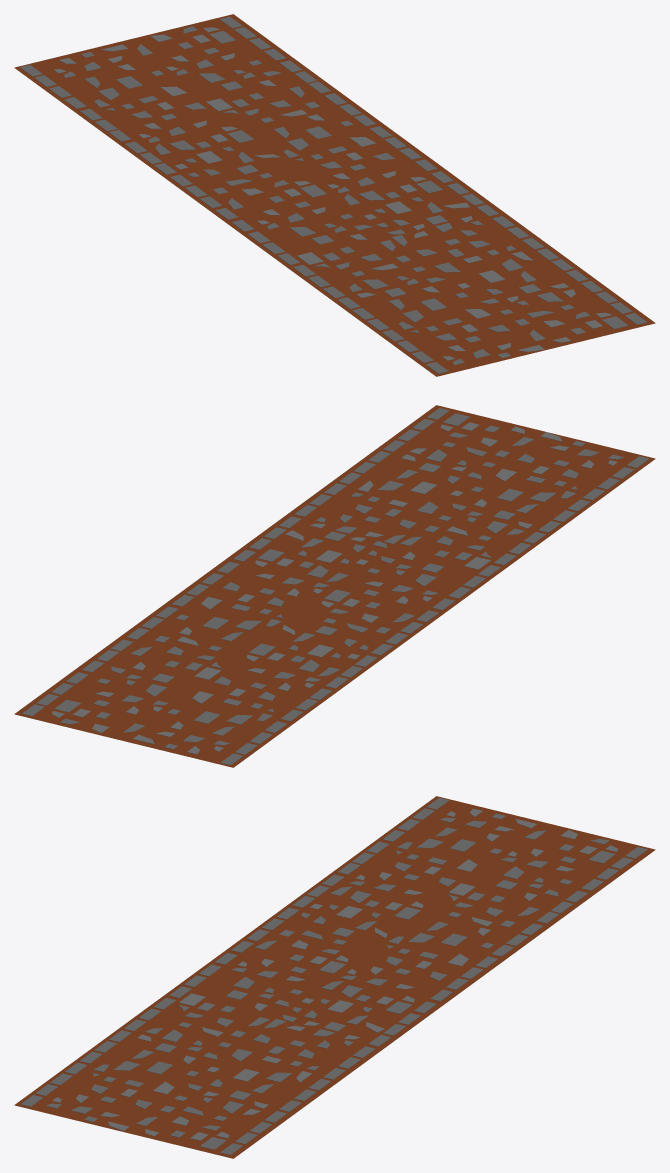
Rendered from Way 2.fbx.
3 views of the same model, one above another, from view 1: azimuth 30°, elevation 25°; view 2: azimuth 150°, elevation 25°; view 3: azimuth 330°, elevation 25° (orthographic).
Parts seen in each view (by area): view 1: Boden, Steine, SteineRand; view 2: Boden, Steine, SteineRand; view 3: Boden, Steine, SteineRand.
Boxes of the visible parts, x1=… form: Boden: x1=14, y1=14, x2=655, y2=376; Steine: x1=53, y1=26, x2=628, y2=365; SteineRand: x1=20, y1=16, x2=647, y2=373; Boden: x1=14, y1=405, x2=655, y2=767; Steine: x1=52, y1=413, x2=623, y2=754; SteineRand: x1=22, y1=408, x2=648, y2=765; Boden: x1=14, y1=796, x2=655, y2=1158; Steine: x1=46, y1=808, x2=617, y2=1149; SteineRand: x1=20, y1=797, x2=647, y2=1155.
Bounding box in the file's own units: 10 × 3 × 0.00717.
